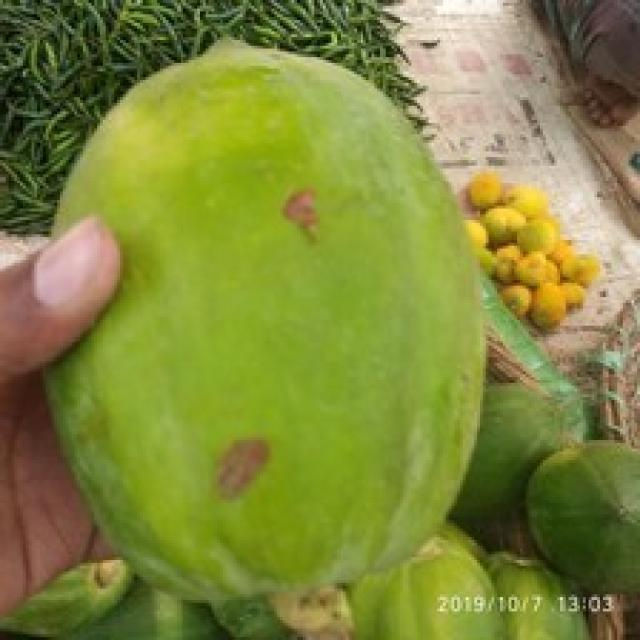Pepaya unrippen: (39, 34, 490, 608)
